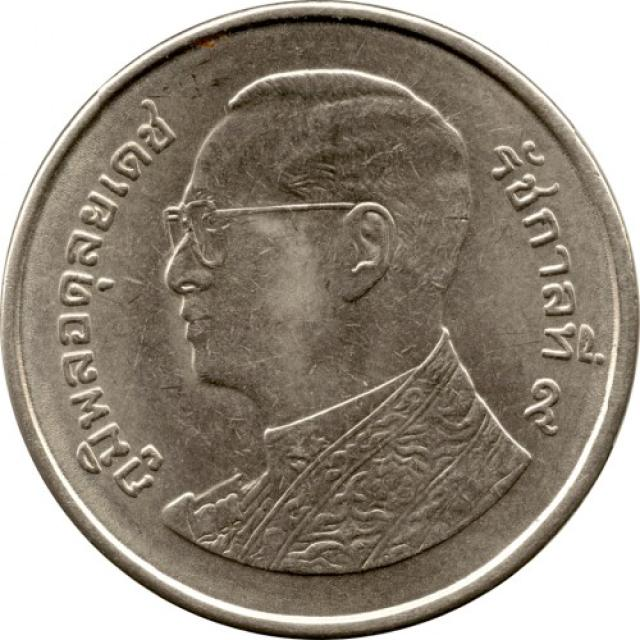1 Bath: (1, 1, 640, 637)
